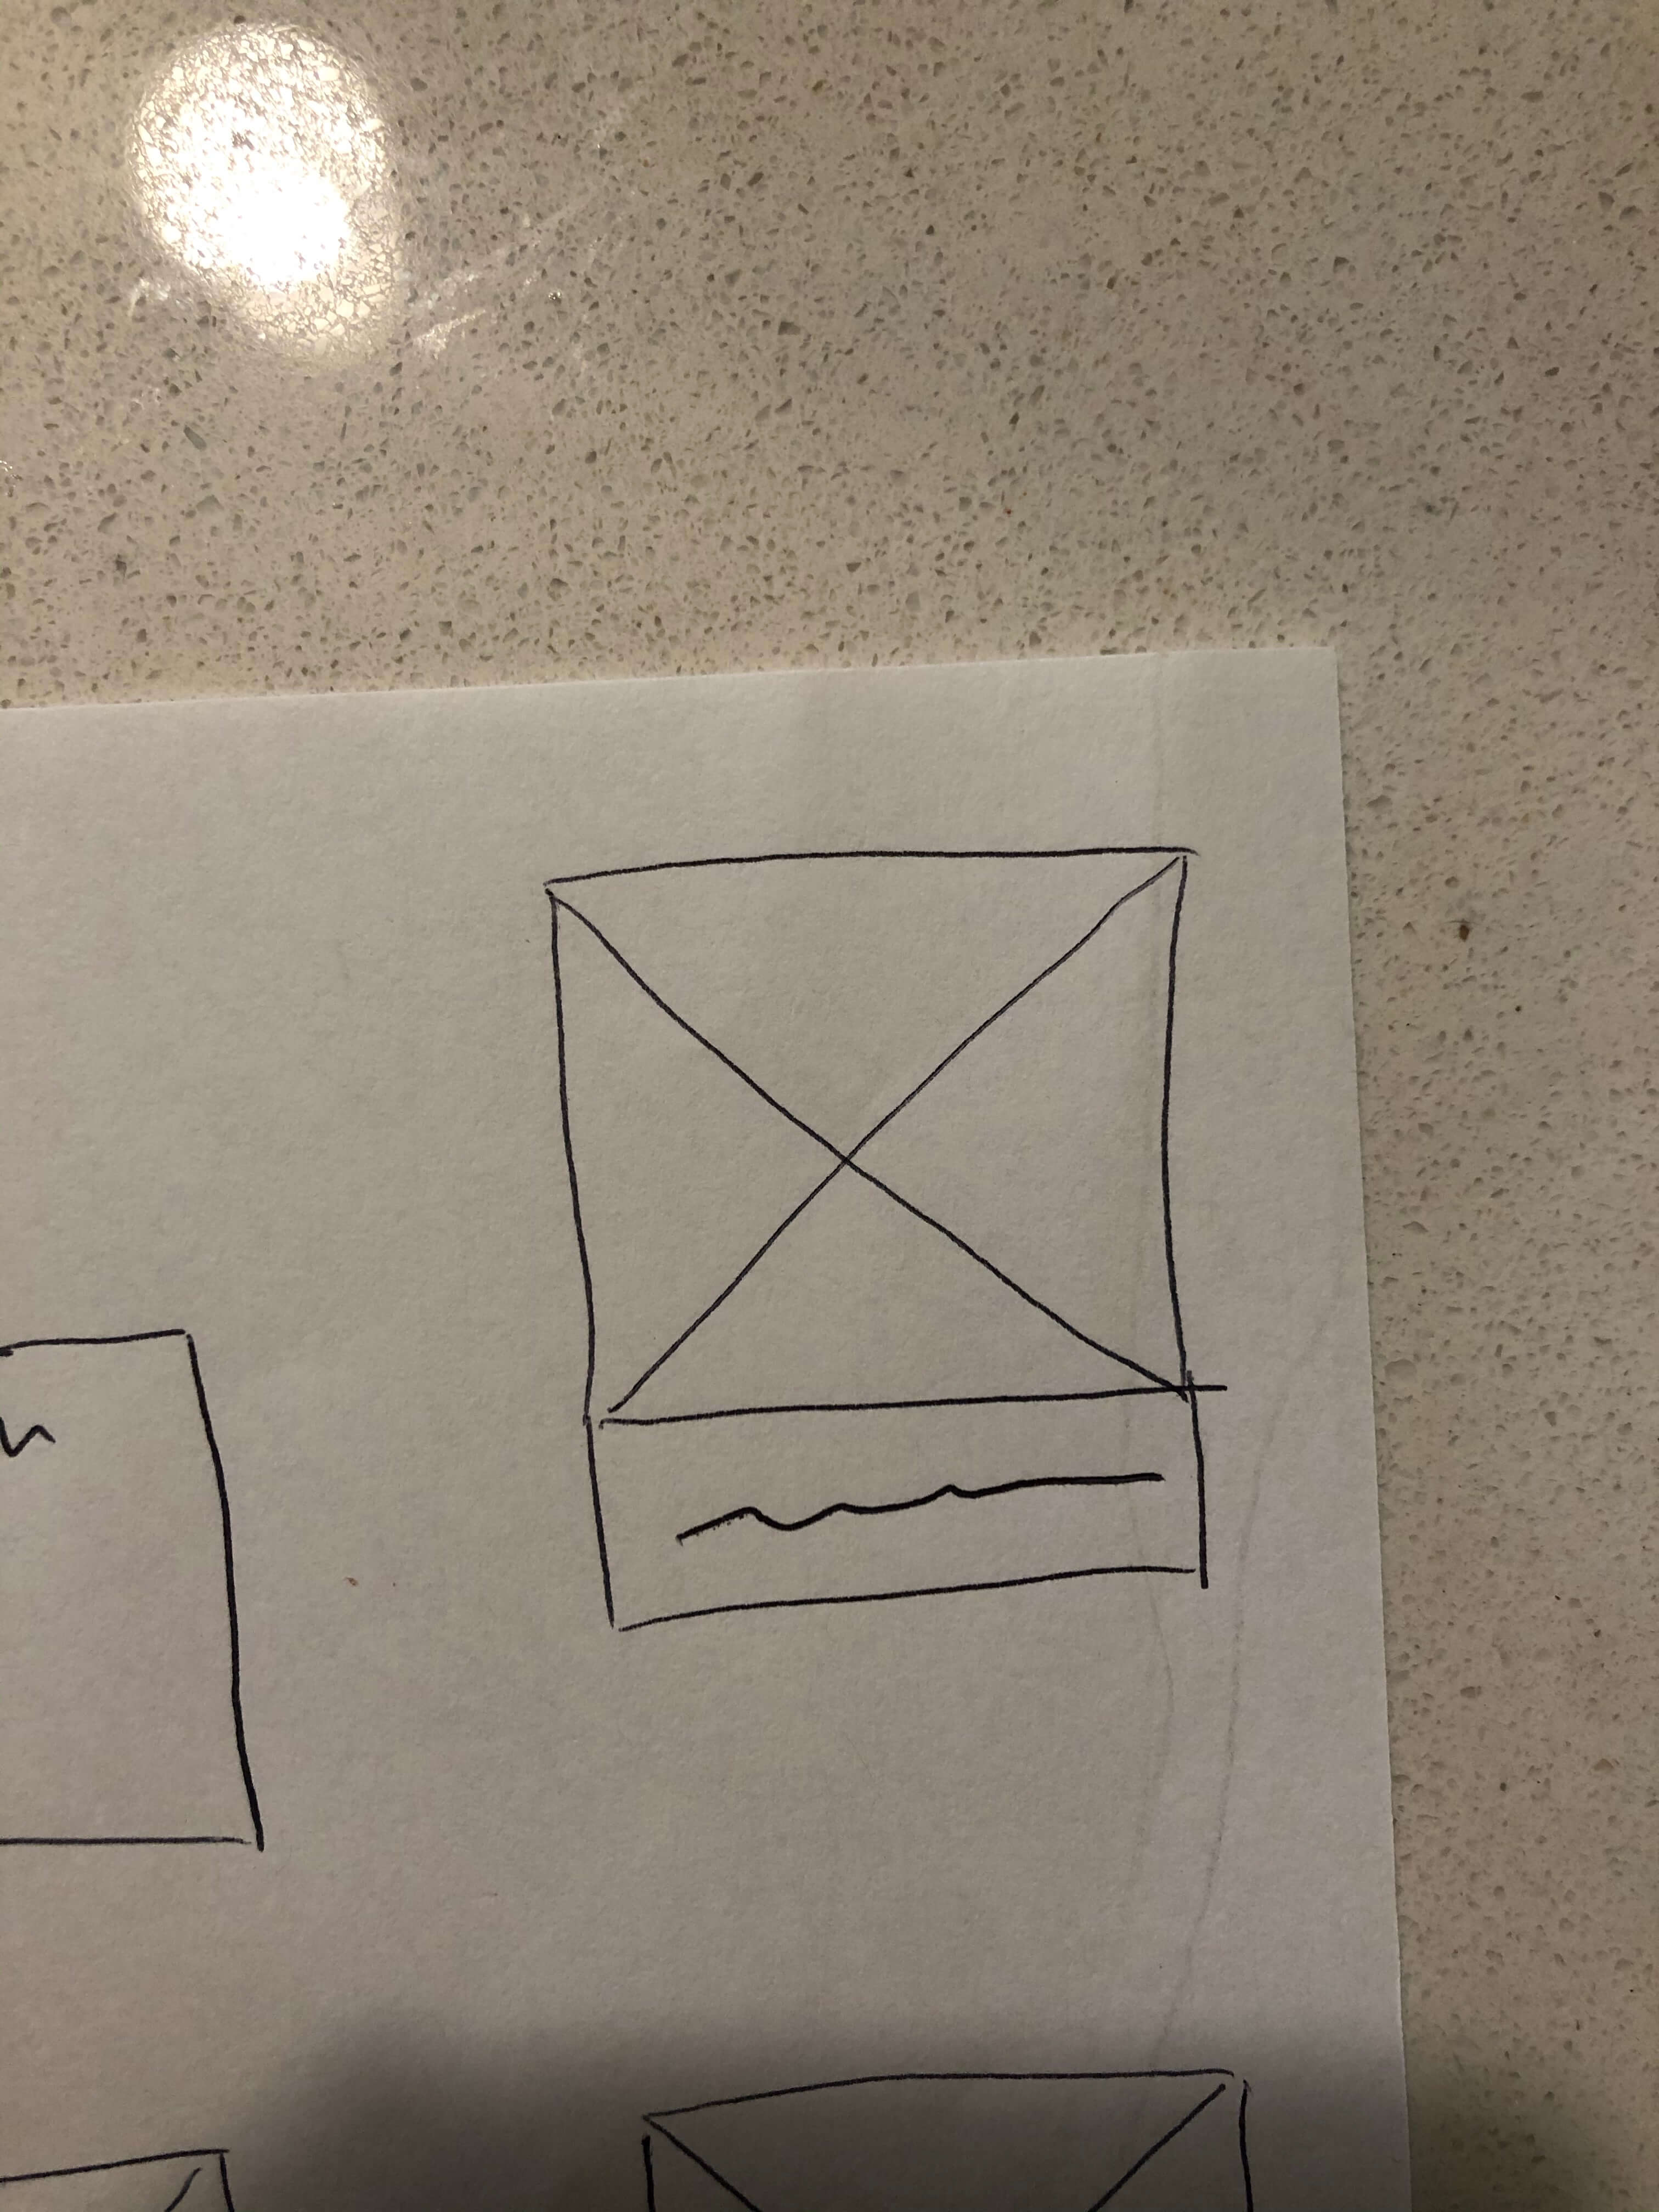card: (526, 834, 1248, 1646)
